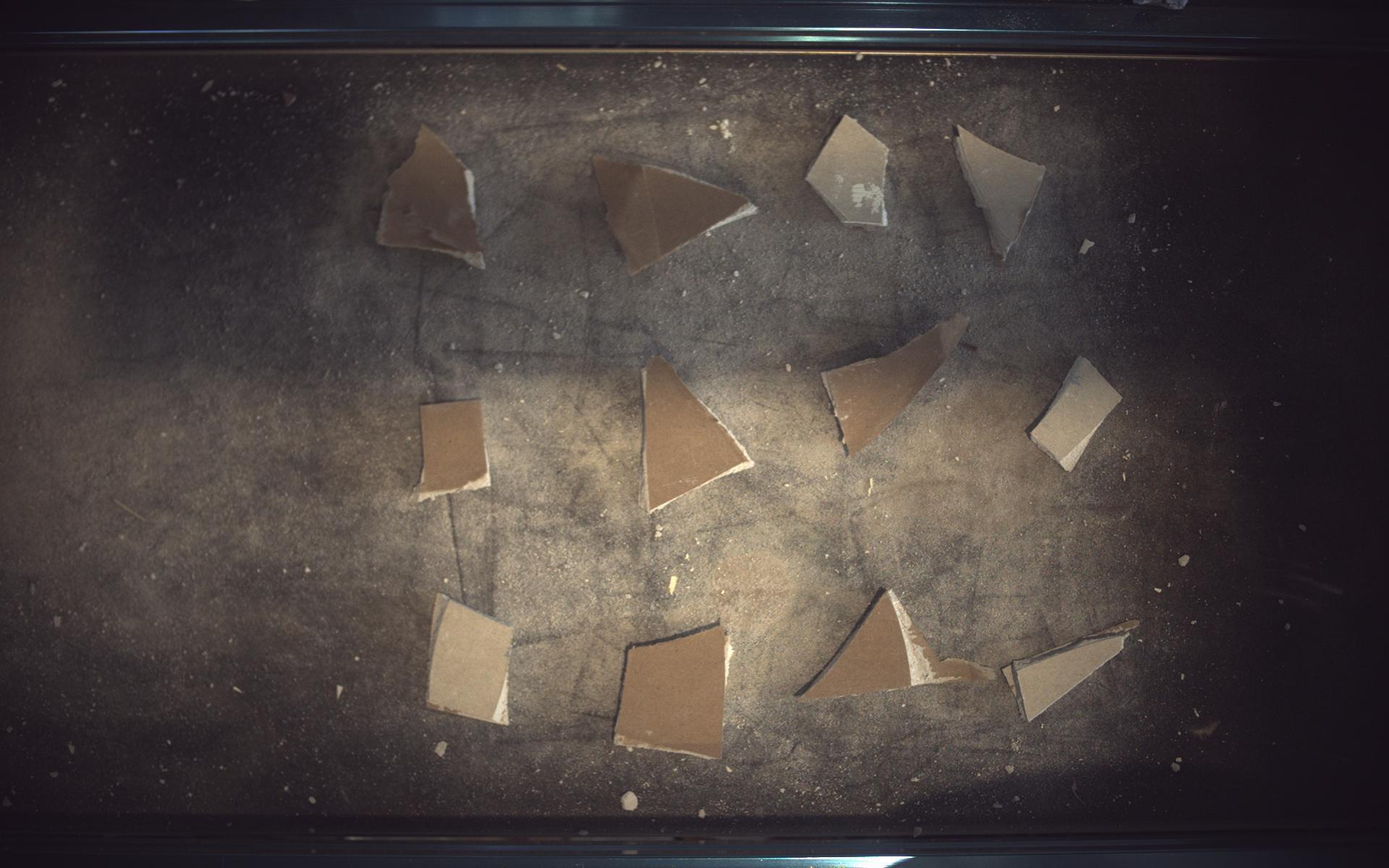gypsum_board: (802, 590, 998, 701), (823, 313, 970, 456), (594, 156, 758, 274), (643, 354, 755, 512), (376, 126, 485, 268), (616, 627, 728, 760), (1004, 621, 1142, 723), (956, 124, 1048, 261), (428, 594, 513, 726), (1032, 356, 1124, 472), (808, 115, 890, 225), (417, 400, 491, 502)
